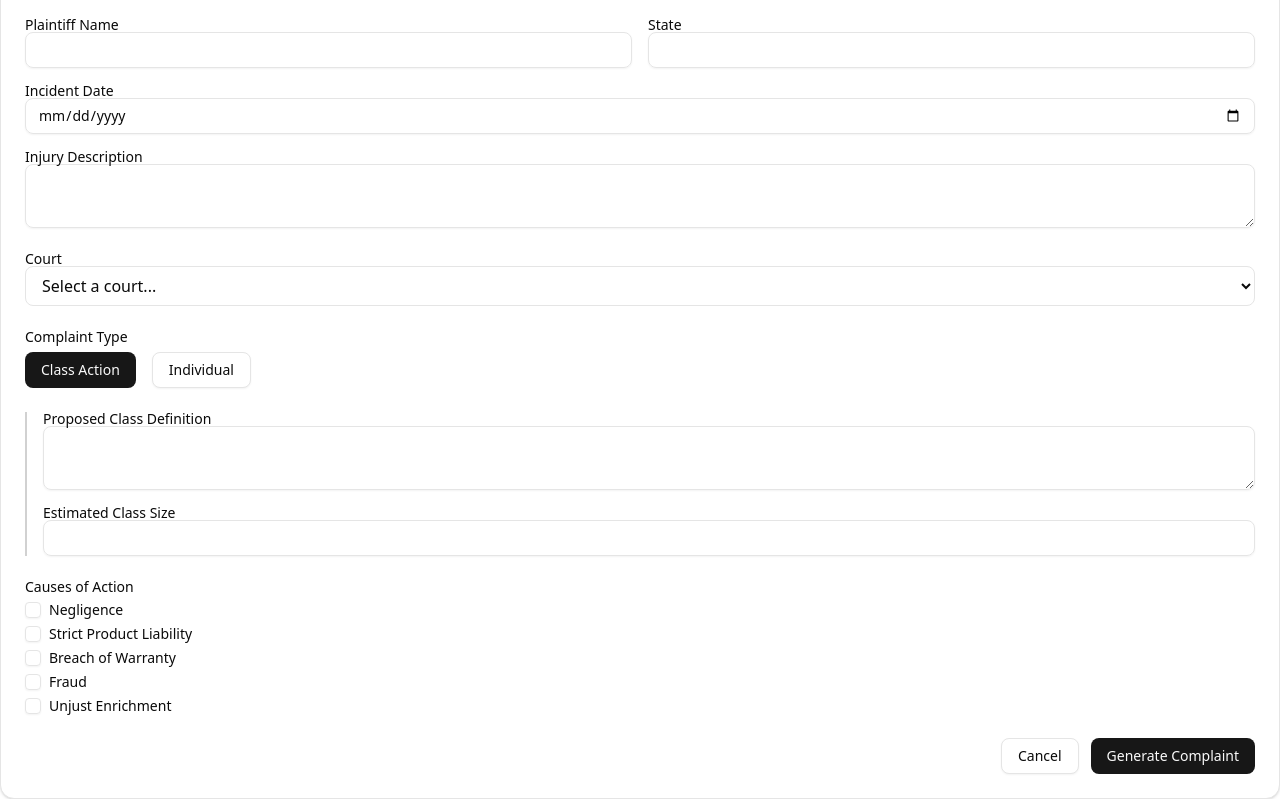
it: ComplaintForm › should validate required fields
(page scrolled)
Click the button "Generate Complaint" at coordinates (1173, 756), box 1091,738 -> 1255,774
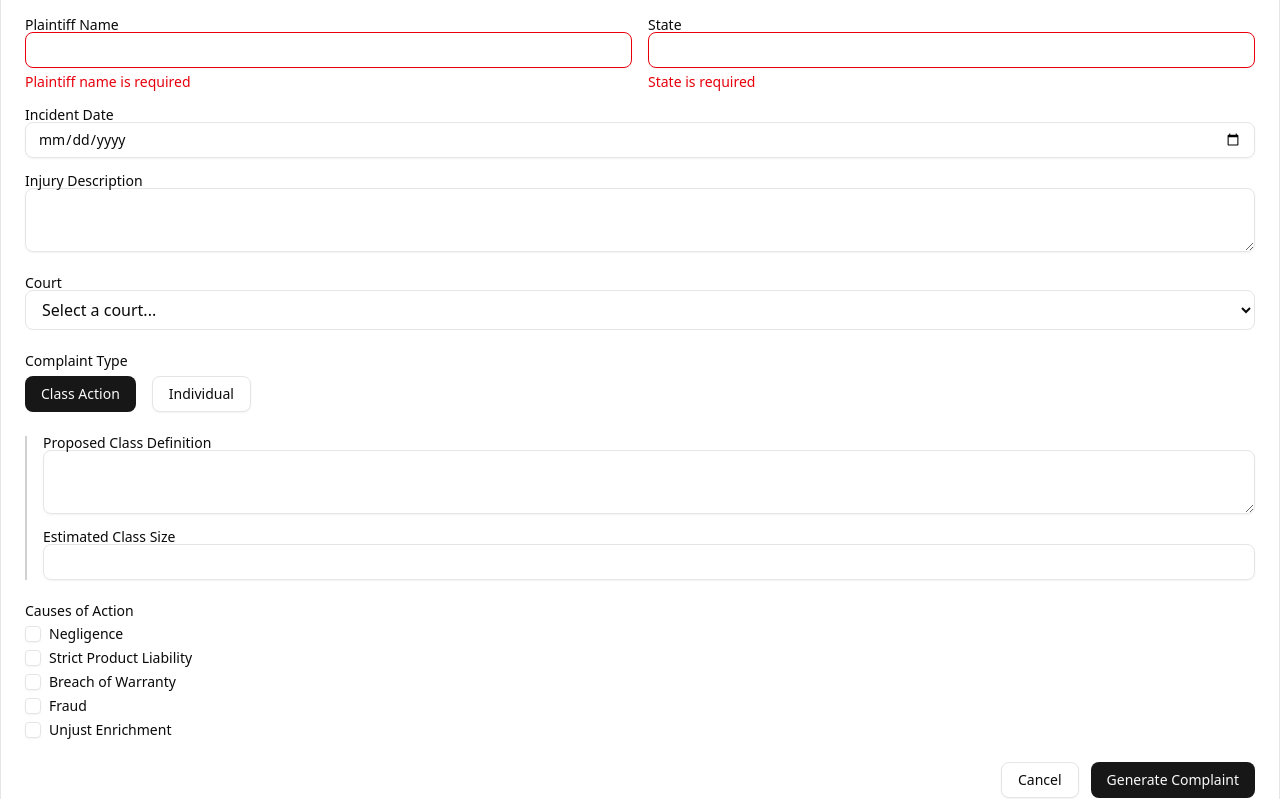
Now the text "Plaintiff name is required" is shown, box 25,72 -> 190,91
Now the text "State is required" is shown, box 648,72 -> 755,91
